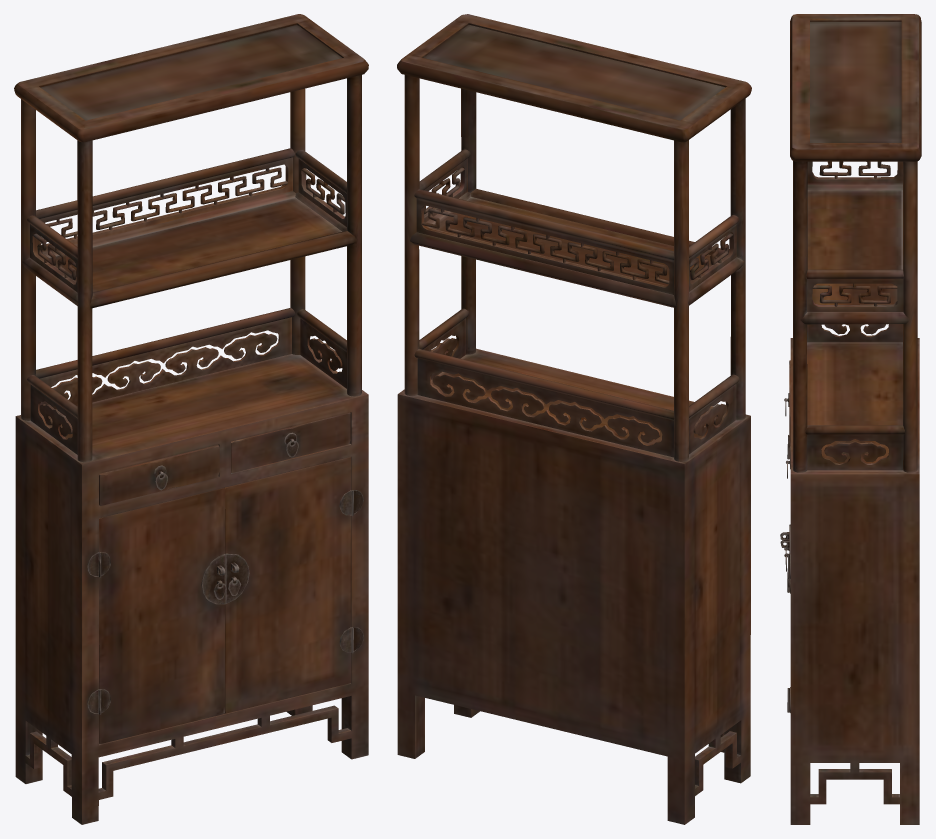
File: chinese_cabinet.glb
The picture shows the model from 3 angles, left to right: view 1: azimuth 30°, elevation 25°; view 2: azimuth 150°, elevation 25°; view 3: azimuth 270°, elevation 25°; orthographic projection. The views are drawn at different scales.
Parts seen in each view (by area): view 1: chinese_cabinet; view 2: chinese_cabinet; view 3: chinese_cabinet.
Boxes of the visible parts, box(x1,y1,x2,y2) form: chinese_cabinet: box(14, 14, 368, 824); chinese_cabinet: box(397, 14, 751, 824); chinese_cabinet: box(780, 14, 921, 824).
Bounding box in the file's own units: 1.26 × 2.87 × 0.5438.
Materials: 1 (1 with a texture image).
